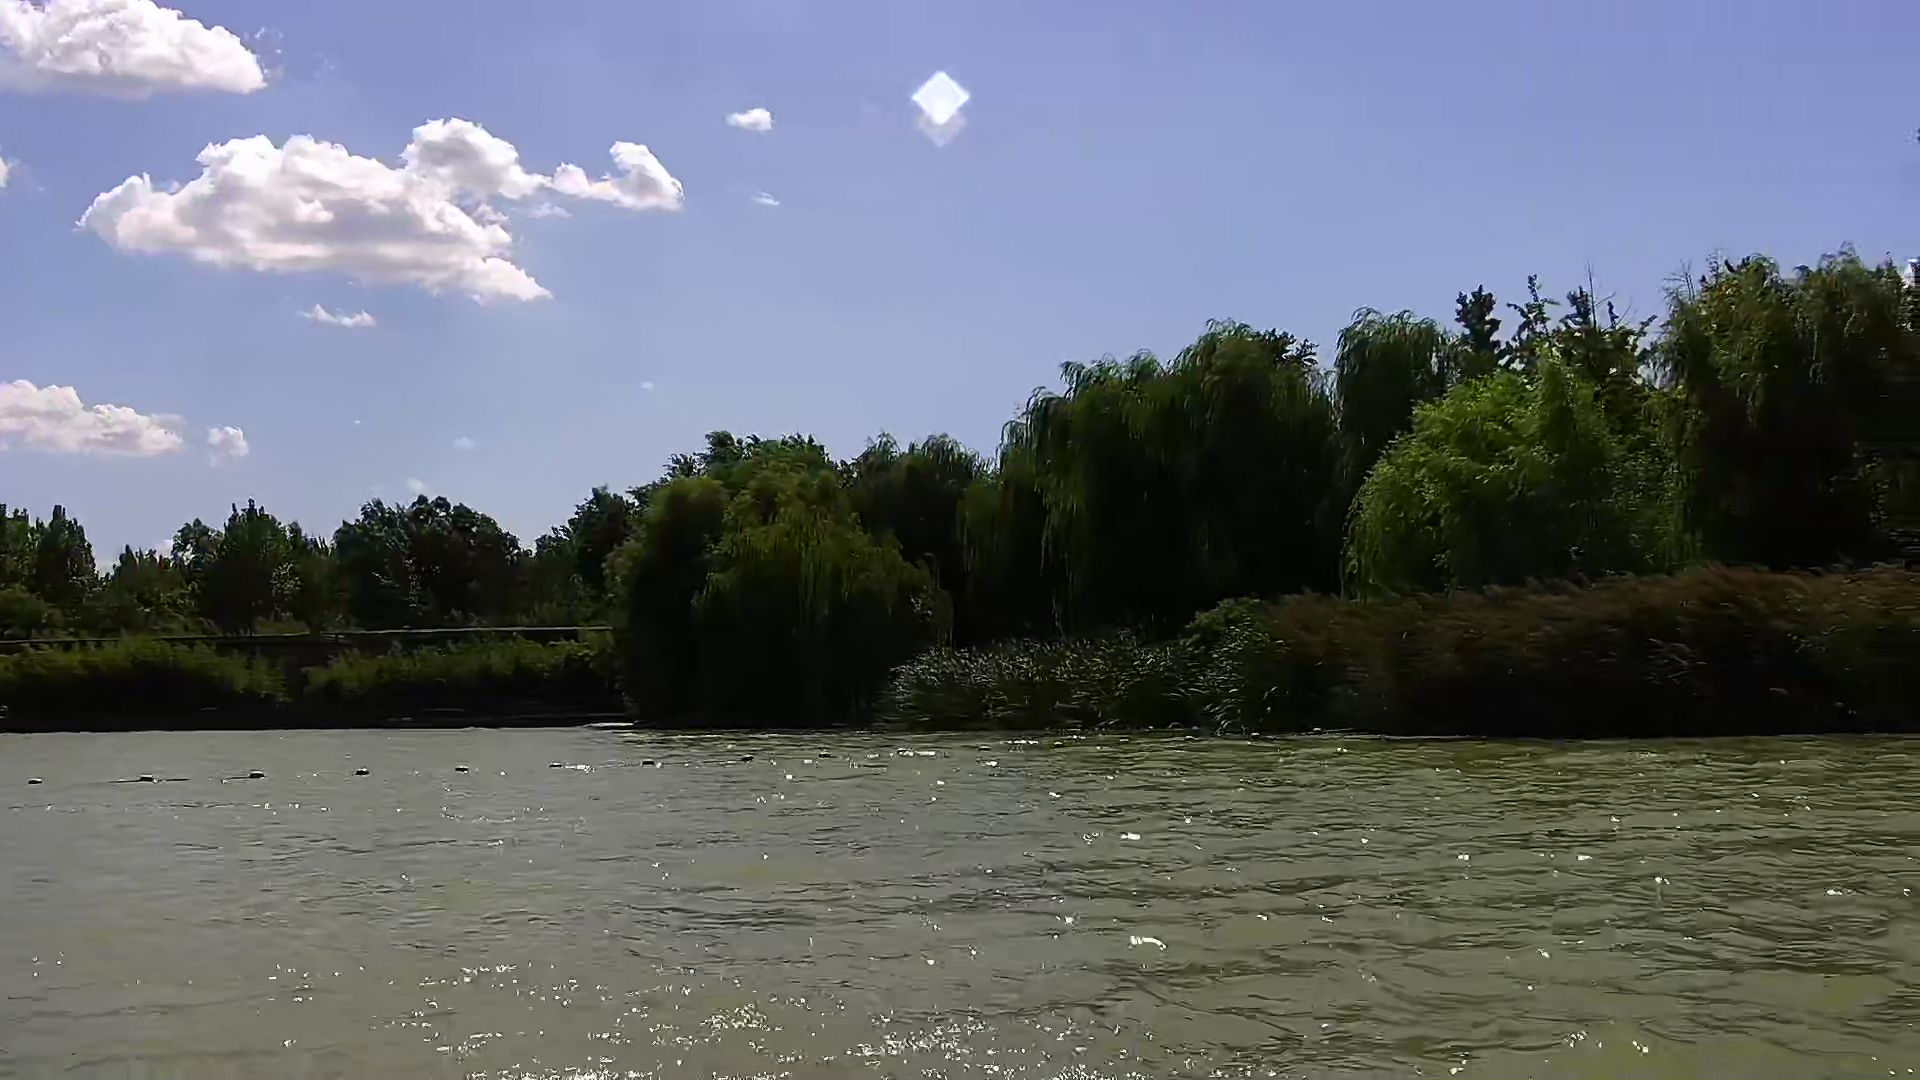ball: (442, 758, 477, 781), (345, 760, 375, 781), (136, 767, 162, 789), (243, 766, 272, 785)
